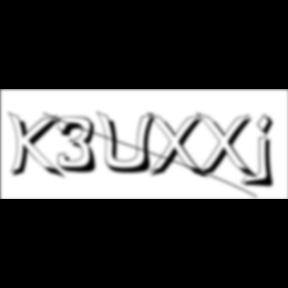3: (57, 116, 103, 176)
K: (9, 110, 68, 182)
U: (97, 110, 162, 176)
X: (147, 112, 211, 182), (196, 112, 260, 182)
j: (254, 113, 282, 191)
